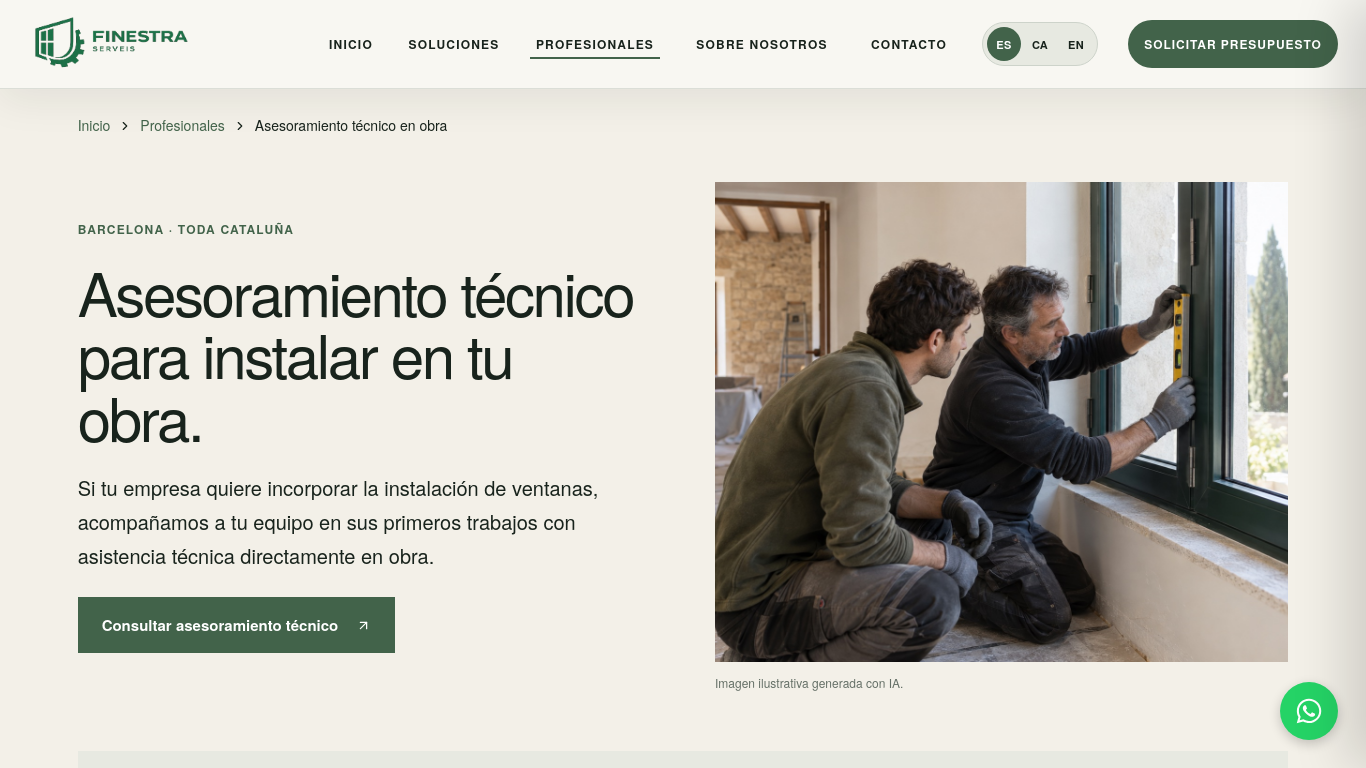
Test case: asesoramiento-tecnico opens a dedicated page and carries the choice to contact
Expected: the heading "Asesoramiento técnico para instalar en tu obra." is shown, [78,260,651,447]
Click the link "Consultar asesoramiento técnico". click: (236, 625)
box: [78,597,395,653]
(page scrolled)
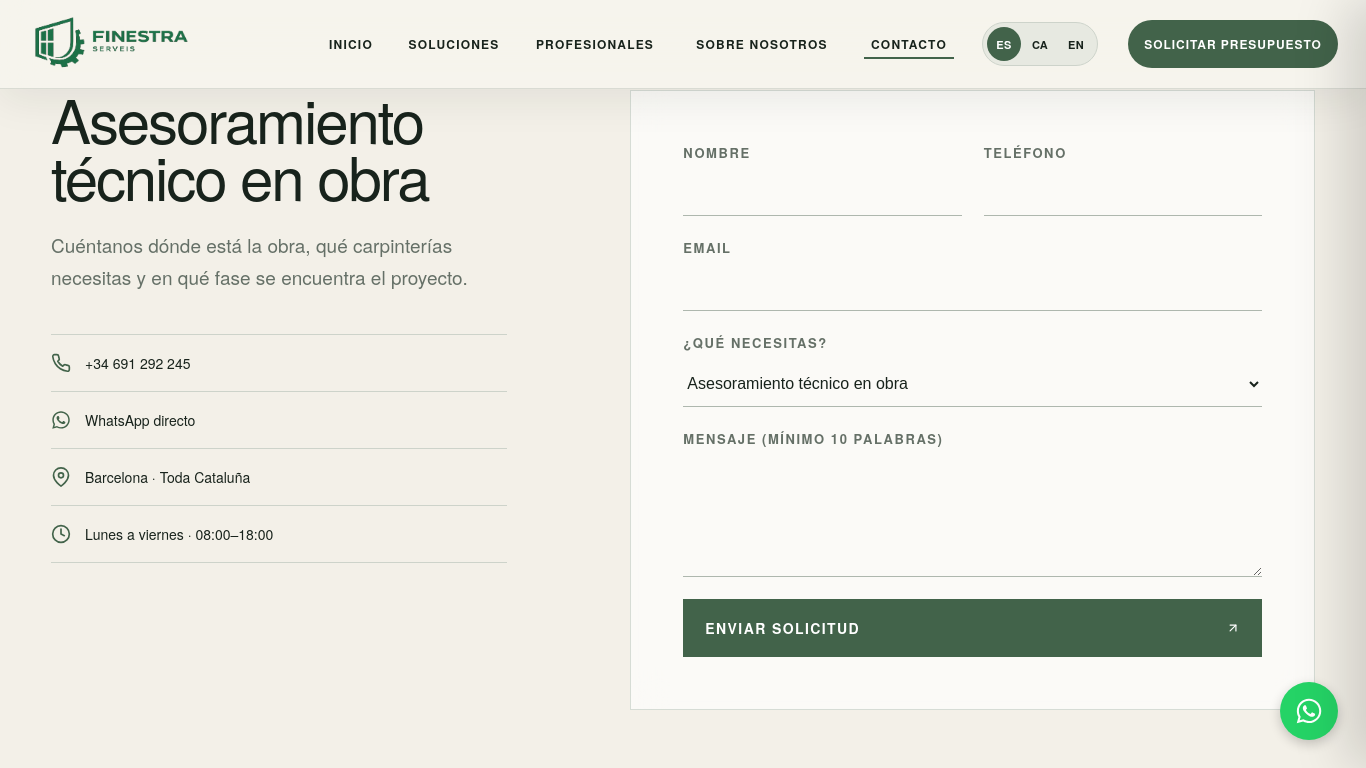
Result: the dropdown shows "Asesoramiento técnico en obra" at [683,361,1262,407]
